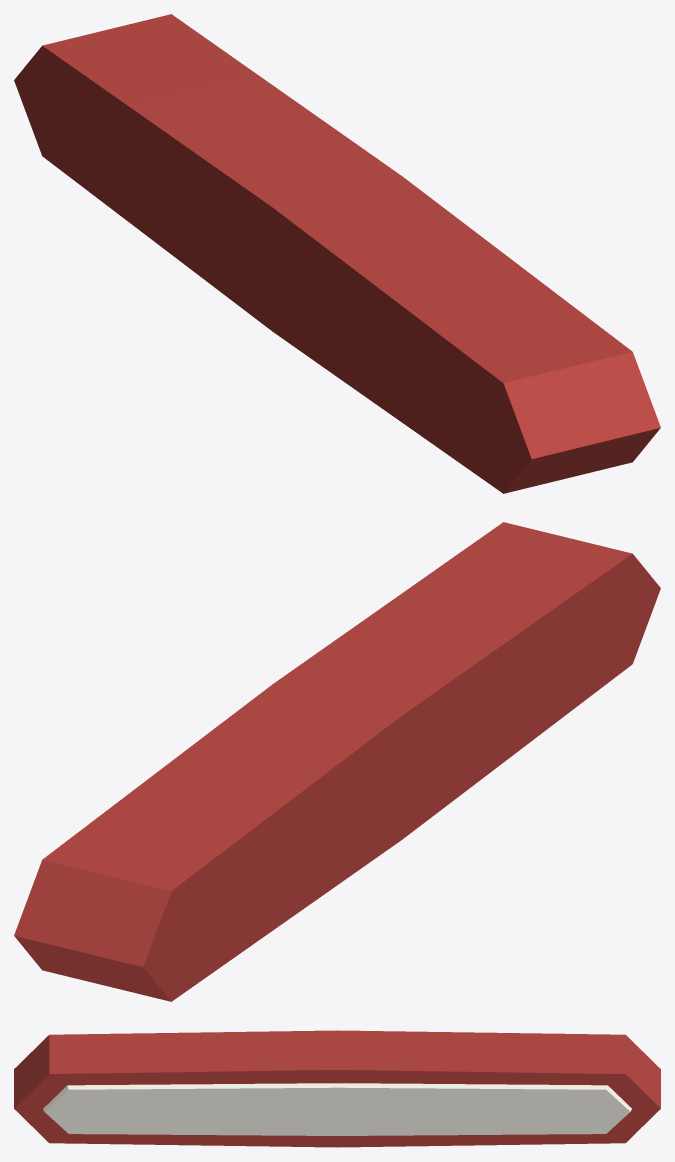
File: bar_lod1.glb
The picture shows the model from 3 angles, top to bottom: view 1: azimuth 30°, elevation 25°; view 2: azimuth 150°, elevation 25°; view 3: azimuth 270°, elevation 25°; orthographic projection. The views are drawn at different scales.
Parts seen in each view (by area): view 1: bar_lod1; view 2: bar_lod1; view 3: bar_lod1.
Part boxes in pixels (x1=…): bar_lod1: x1=14, y1=14, x2=660, y2=493; bar_lod1: x1=14, y1=522, x2=660, y2=1001; bar_lod1: x1=14, y1=1030, x2=660, y2=1147.
Size of the model in its own units: 0.053 by 0.045 by 0.34.
